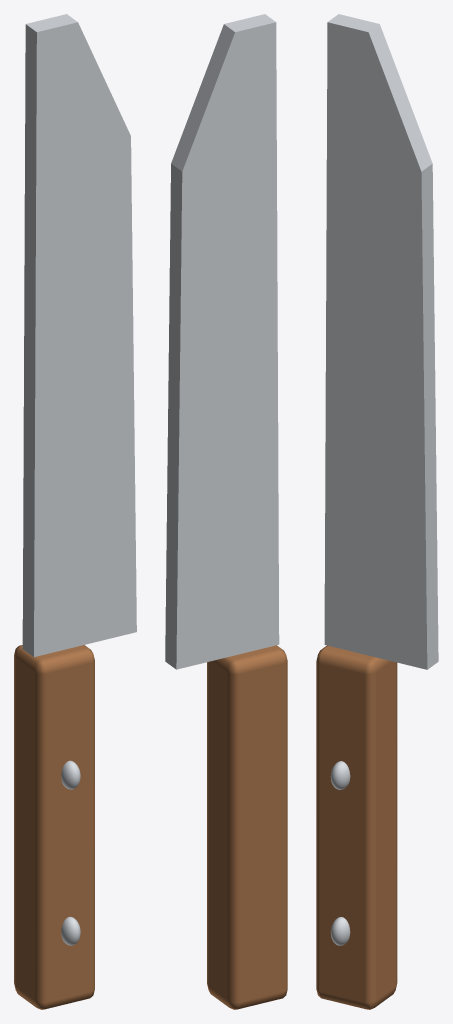
File: wp-couteau-de-table.glb
The picture shows the model from 3 angles, left to right: view 1: azimuth 30°, elevation 25°; view 2: azimuth 210°, elevation 25°; view 3: azimuth 330°, elevation 25°; orthographic projection.
Parts seen in each view (by area): view 1: wp-couteau-de-table; view 2: wp-couteau-de-table; view 3: wp-couteau-de-table.
Boxes of the visible parts, left/top/right/bottom form: wp-couteau-de-table: left=14, top=14, right=136, bottom=1009; wp-couteau-de-table: left=165, top=14, right=287, bottom=1009; wp-couteau-de-table: left=316, top=14, right=438, bottom=1009.
Bounding box in the file's own units: 0.025 × 0.22 × 0.015.
